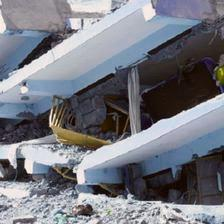Destroyed_Building: (0, 0, 224, 209)
